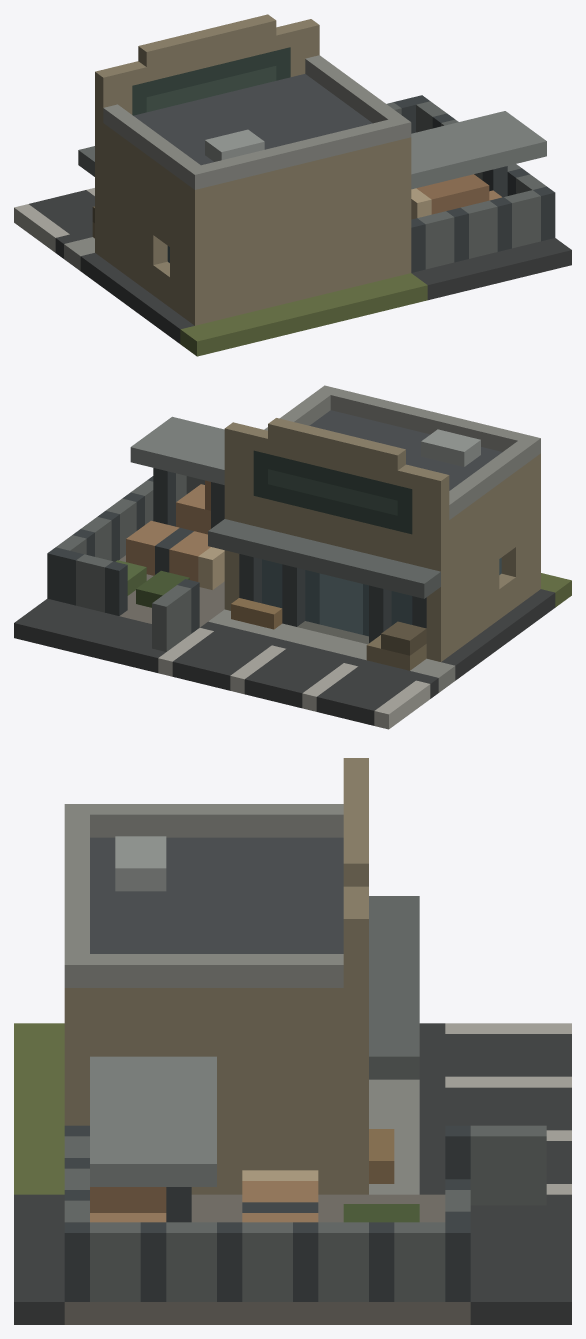
The model's file is Claude_hardware_store.glb.
3 renders of one model, top to bottom at view 1: azimuth 30°, elevation 25°; view 2: azimuth 150°, elevation 25°; view 3: azimuth 270°, elevation 25°, orthographic. The views are drawn at different scales.
Visible parts, largest first — view 1: Claude_hardware_store; view 2: Claude_hardware_store; view 3: Claude_hardware_store.
Part boxes in pixels (box(x1,y1,x2,y2)): Claude_hardware_store: box(14, 14, 571, 356); Claude_hardware_store: box(14, 385, 571, 729); Claude_hardware_store: box(14, 758, 571, 1324).
Size of the model in its own units: 13 by 7 by 11.
